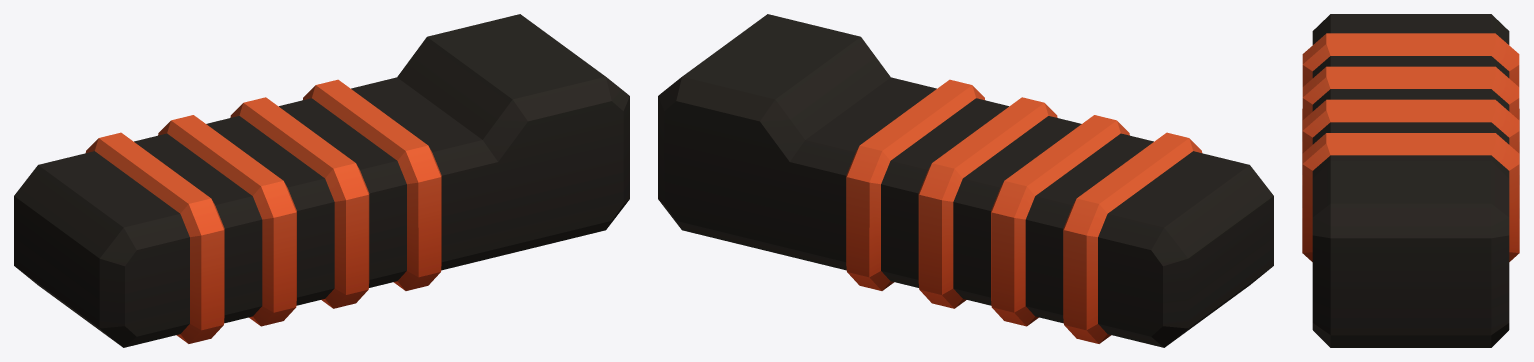
Rendered from Shotgun4_Bolt.fbx.
3 renders of one model, left to right at view 1: azimuth 30°, elevation 25°; view 2: azimuth 150°, elevation 25°; view 3: azimuth 270°, elevation 25°, orthographic. The views are drawn at different scales.
Parts seen in each view (by area): view 1: Shotgun4_Bolt; view 2: Shotgun4_Bolt; view 3: Shotgun4_Bolt.
Part boxes in pixels (box(x1,y1,x2,y2)): Shotgun4_Bolt: box(14, 14, 629, 347); Shotgun4_Bolt: box(658, 14, 1273, 347); Shotgun4_Bolt: box(1302, 14, 1519, 347).
Bounding box in the file's own units: 19.5 × 5.75 × 7.36.
